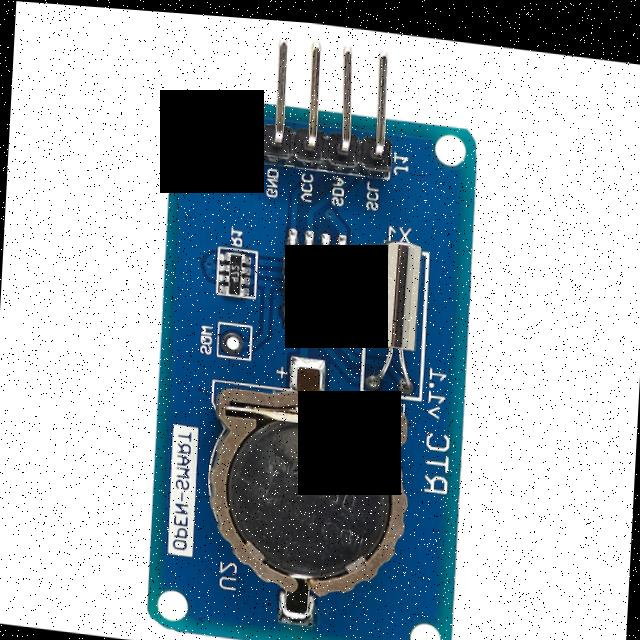IC: (270, 227, 354, 320)
battery: (195, 374, 412, 606)
clock Q1: (360, 234, 428, 386)
connector -5v-: (240, 24, 408, 178)
resistor IR1: (214, 231, 253, 296)
